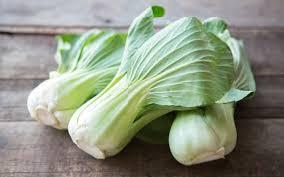Healthy-Pechay: (36, 16, 268, 159)
